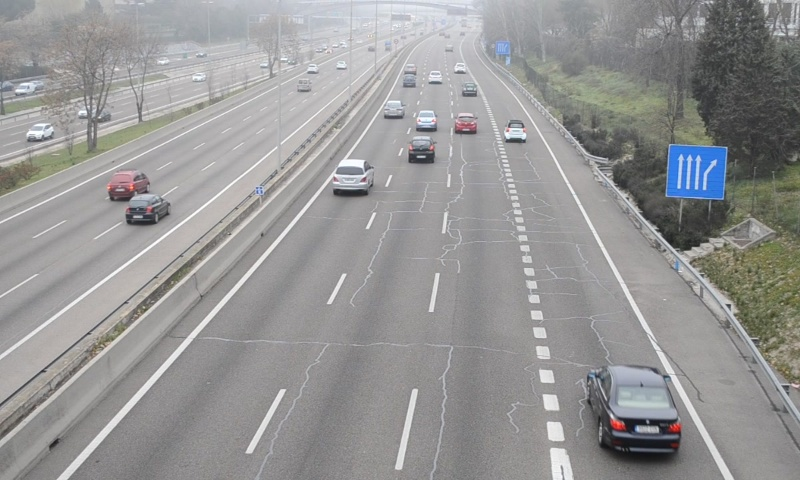car: (588, 366, 682, 455), (331, 158, 374, 191), (407, 136, 436, 164), (504, 119, 527, 143), (454, 112, 478, 135), (416, 109, 438, 132), (383, 100, 405, 120), (460, 81, 478, 98), (401, 74, 418, 88)
